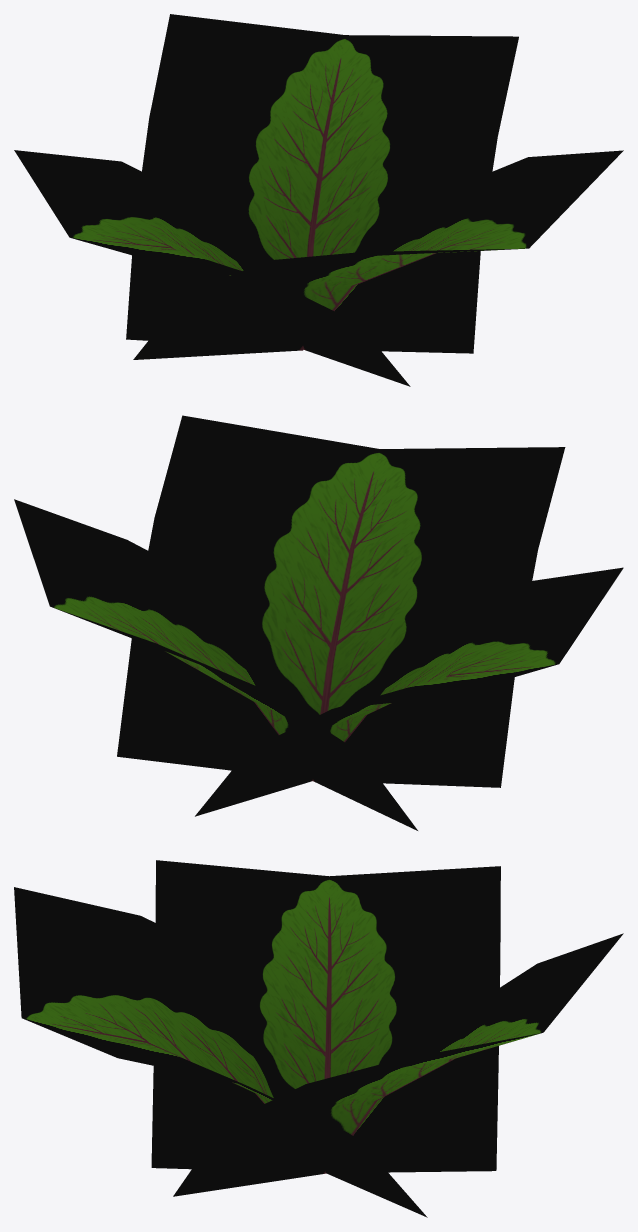
The model's file is BeetPlant01.fbx.
The picture shows the model from 3 angles, top to bottom: view 1: azimuth 30°, elevation 25°; view 2: azimuth 150°, elevation 25°; view 3: azimuth 270°, elevation 25°; orthographic projection. The views are drawn at different scales.
Visible parts, largest first — view 1: BeetPlant01_LOD0; view 2: BeetPlant01_LOD0; view 3: BeetPlant01_LOD0.
Boxes of the visible parts, box(x1,y1,x2,y2) form: BeetPlant01_LOD0: box(14, 14, 623, 386); BeetPlant01_LOD0: box(14, 415, 623, 830); BeetPlant01_LOD0: box(14, 860, 623, 1217).
Size of what is drawn, in the model's own units: 22.14 by 10.15 by 22.99.
